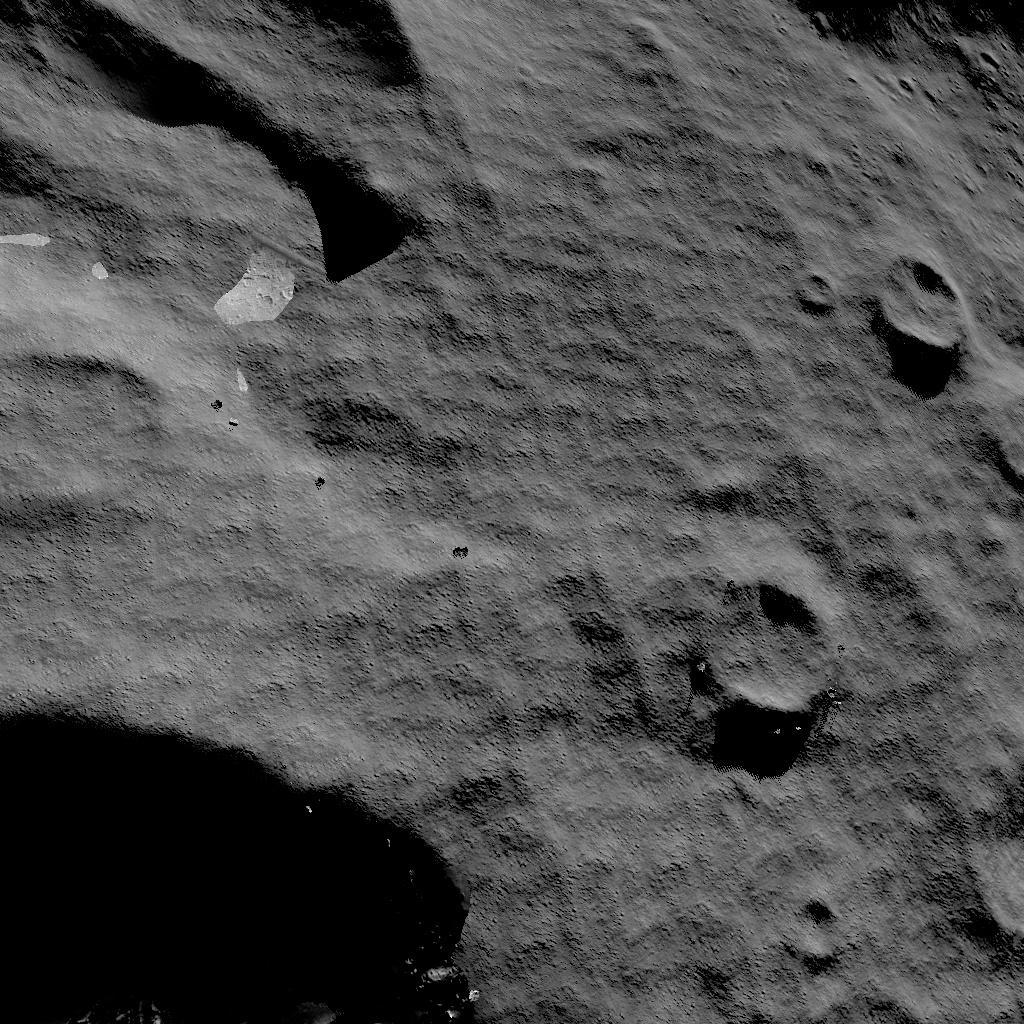Crater: (0, 681, 495, 1024), (0, 0, 411, 298), (0, 316, 167, 514), (691, 567, 853, 724), (924, 702, 1024, 926), (868, 214, 985, 362), (773, 858, 845, 930), (800, 266, 843, 320)
Plan surface: (426, 0, 755, 486), (519, 758, 749, 1024)
